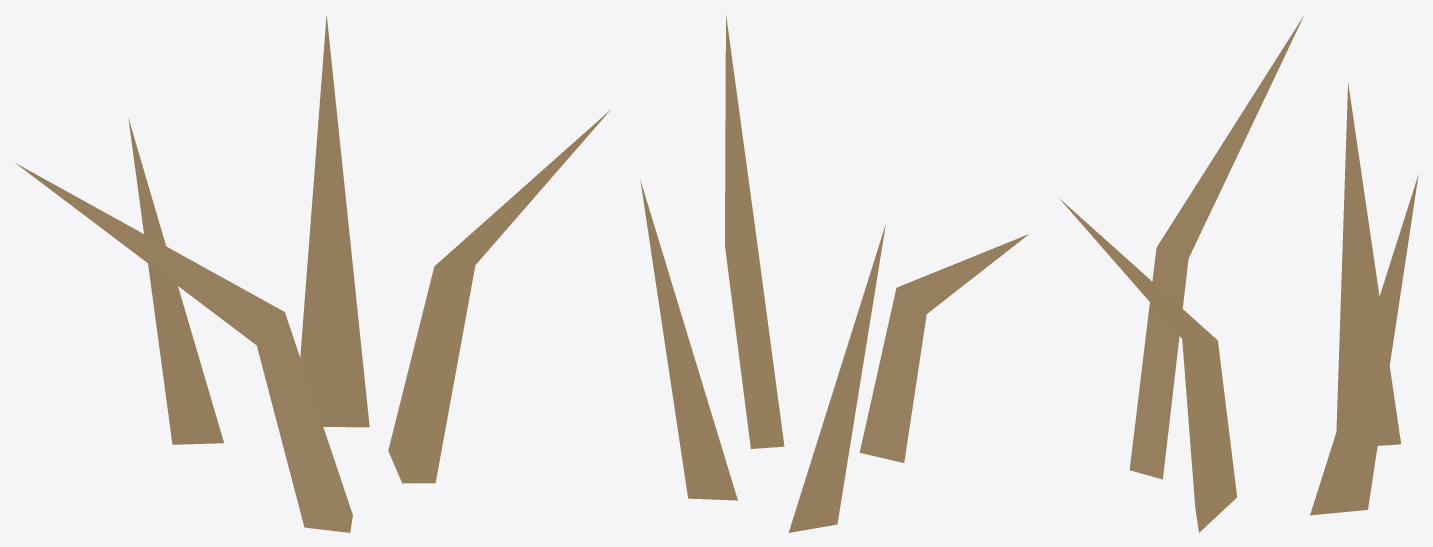
The model's file is Grass3D_b_03.fbx.
3 views of the same model, side by side, from view 1: azimuth 30°, elevation 25°; view 2: azimuth 150°, elevation 25°; view 3: azimuth 270°, elevation 25° (orthographic). The views are drawn at different scales.
Parts seen in each view (by area): view 1: Grass3D_b_03; view 2: Grass3D_b_03; view 3: Grass3D_b_03.
Boxes of the visible parts, left/top/right/bottom form: Grass3D_b_03: left=15, top=16, right=610, bottom=532; Grass3D_b_03: left=640, top=15, right=1028, bottom=532; Grass3D_b_03: left=1058, top=15, right=1418, bottom=532.
Bounding box in the file's own units: 0.5485 × 0.453 × 0.3865.
